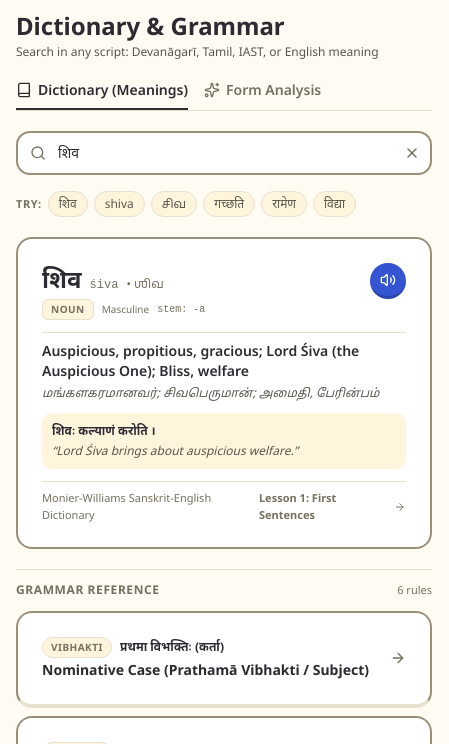
Scenario: Dictionary & Grammar UI (SPEC §11.1 & §11.2) › allows switching between Dictionary (Meanings) and Form Analysis (Grammar) tabs
The width and height of the screenshot is (449, 744).
Note: Click Form Analysis tab
Click the button with test id "tab-form-analysis".
click(263, 95)  # box [204,80,321,110]
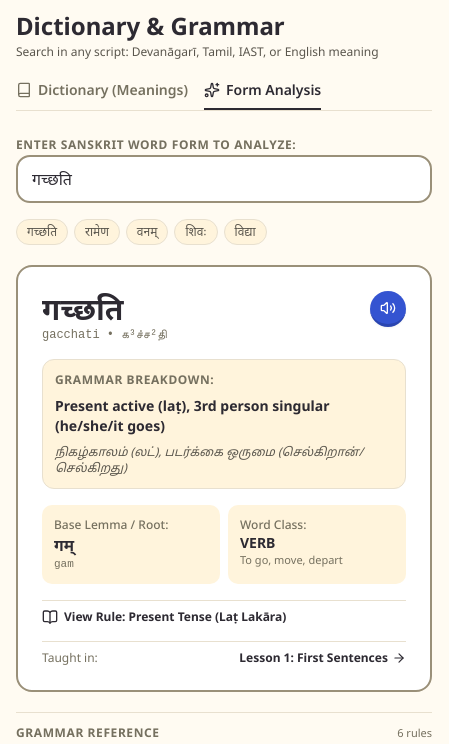
Now the field with test id "form-analysis-input" is shown, box [16,155,432,203]
Now the element with test id "form-analysis-result-card" is shown, box [16,265,432,692]
Now the text "Present active (laṭ), 3rd person singular (he/she/it goes)" is shown, box [55,396,329,435]
Note: Switch back to Dictionary tab
Click the button with test id "tab-dictionary".
click(102, 95)  # box [16,80,188,110]
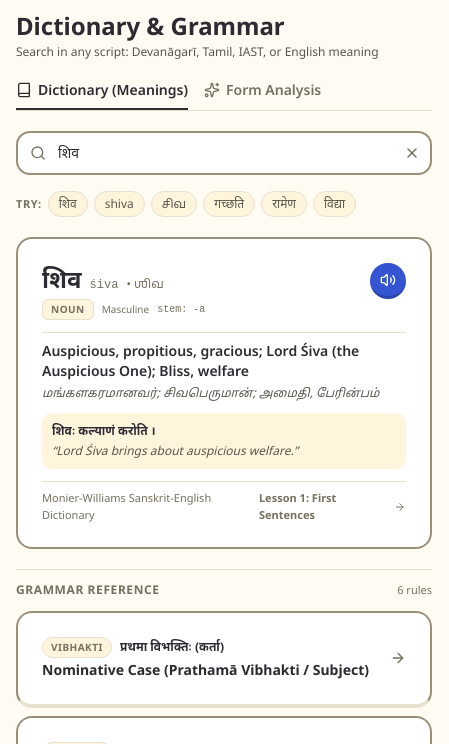
Now the field with test id "dictionary-search-input" is shown, box [16,131,432,175]
